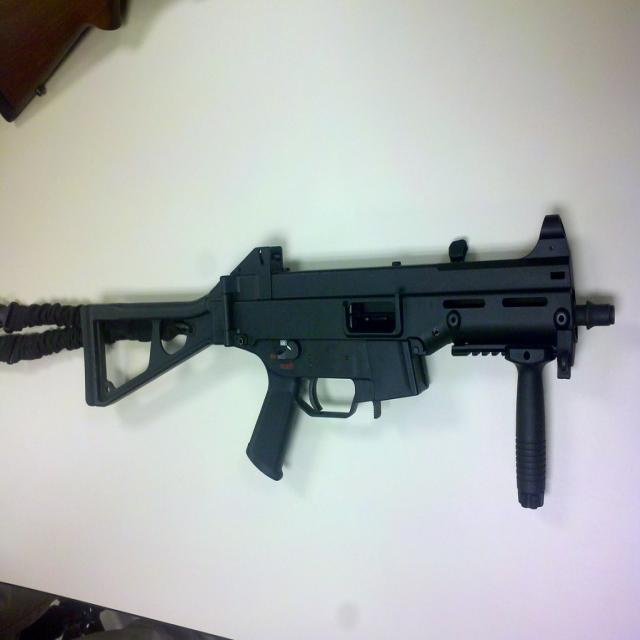SMG: (76, 215, 618, 511)
